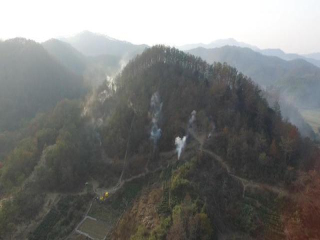smoke: (80, 59, 199, 160)
